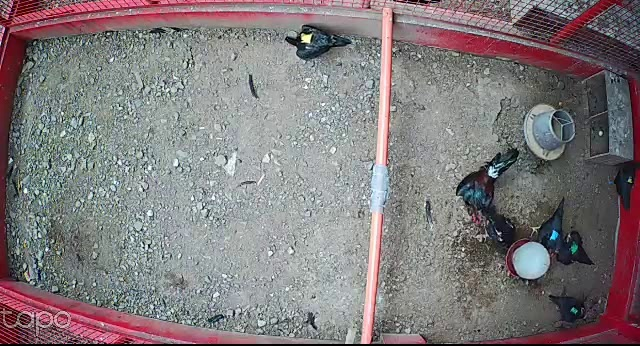Chicken: (282, 24, 354, 61), (528, 196, 568, 260), (469, 201, 518, 247), (604, 154, 640, 212), (549, 230, 602, 268), (544, 289, 589, 324)
Drinker: (505, 239, 550, 281)
Feeder: (523, 104, 575, 161)
Rooster: (452, 146, 520, 224)
Saddle_Color_Blue: (548, 229, 561, 242)
Saddle_Color_Yellow: (299, 32, 313, 45)
Saddle_Color_YellowGreen: (624, 176, 635, 185)
